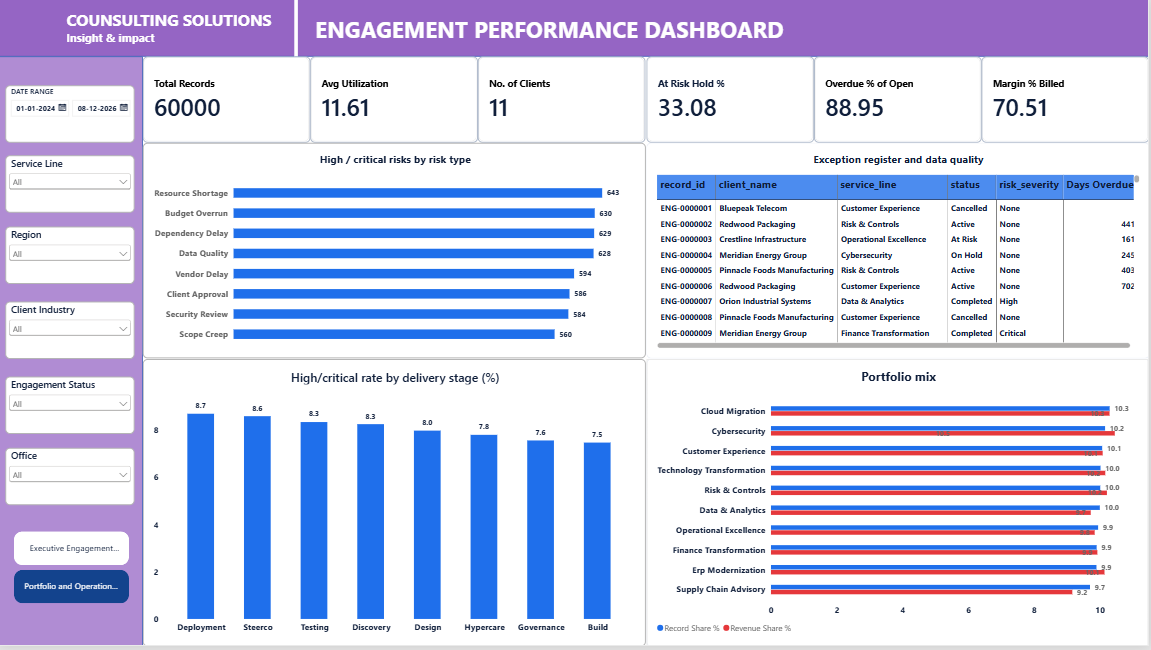

The page's visual inventory and layout, read from the dashboard file:
{"tool":"powerbi","page":{"name":"Portfolio and Operational Analysis","canvas":[1920,1080],"ordinal":1},"visuals":[{"type":"group","id":"g1","title":"Group 1","box":[0,0,1920,1080],"z":0,"group":"g2"},{"type":"shape","box":[0,0,1920,96],"z":0,"group":"g1"},{"type":"group","id":"g2","title":"Group 2","box":[0,0,1920,1080],"z":0,"group":"g3"},{"type":"group","id":"g3","title":"Group 3","box":[0,0,1920,1080],"z":2},{"type":"clusteredBarChart","title":"High / critical risks by risk type","fields":{"Category":["main_dataset.risk_type"],"Y":["Sum(main_dataset.is_high_critical)"]},"box":[240,240,840,360],"z":1000,"group":"g2"},{"type":"clusteredColumnChart","title":"High/critical rate by delivery stage (%)","fields":{"Category":["main_dataset.milestone"],"Y":["Measure.High Critical Rate %"]},"box":[240,600,840,480],"z":1000,"group":"g1"},{"type":"pageNavigator","box":[24,888,192,120],"z":1000,"group":"g3"},{"type":"tableEx","title":"Exception register and data quality","fields":{"Values":["main_dataset.record_id","main_dataset.client_name","main_dataset.service_line","main_dataset.status","main_dataset.risk_severity","main_dataset.Days Overdue"]},"box":[1080,240,840,360],"z":2000,"group":"g2"},{"type":"clusteredBarChart","title":"Portfolio mix","fields":{"Category":["main_dataset.service_line"],"Y":["Measure.Record Share %","Measure.Revenue Share %"]},"box":[1080,600,840,480],"z":2000,"group":"g1"},{"type":"textbox","box":[112,16,368,64],"z":3000,"group":"g1"},{"type":"textbox","box":[528,24,816,72],"z":3000,"group":"g2"},{"type":"shape","box":[480,0,32,96],"z":4000,"group":"g1"},{"type":"slicer","title":"DATE rANGE","fields":{"Values":["main_dataset.recorded_date"]},"box":[10,144,216,96],"z":4000,"group":"g2"},{"type":"cardVisual","fields":{"Data":["Measure.Total Records"]},"box":[240,96,280,144],"z":5000,"group":"g1"},{"type":"slicer","title":"DATE rANGE","fields":{"Values":["main_dataset.service_line"]},"box":[10,260,216,96],"z":5000,"group":"g2"},{"type":"cardVisual","fields":{"Data":["Sum(01_Kpi.clients)"]},"box":[800,96,280,144],"z":6000,"group":"g1"},{"type":"slicer","title":"DATE rANGE","fields":{"Values":["main_dataset.region"]},"box":[10,380,216,96],"z":6000,"group":"g2"},{"type":"cardVisual","fields":{"Data":["Measure.At Risk Hold %"]},"box":[1081,96,280,144],"z":7000,"group":"g1"},{"type":"slicer","title":"DATE rANGE","fields":{"Values":["main_dataset.industry"]},"box":[10,505,216,96],"z":7000,"group":"g2"},{"type":"cardVisual","fields":{"Data":["Measure.Overdue % of Open"]},"box":[1361,96,280,144],"z":8000,"group":"g1"},{"type":"slicer","title":"DATE rANGE","fields":{"Values":["main_dataset.status"]},"box":[10,630,216,96],"z":8000,"group":"g2"},{"type":"cardVisual","fields":{"Data":["Measure.Margin % Billed"]},"box":[1640,96,280,144],"z":9000,"group":"g1"},{"type":"slicer","title":"DATE rANGE","fields":{"Values":["main_dataset.office"]},"box":[10,750,216,96],"z":9000,"group":"g2"},{"type":"shape","box":[0,96,240,984],"z":10000,"group":"g1"},{"type":"cardVisual","fields":{"Data":["Measure.Avg Utilization"]},"box":[520,96,280,144],"z":11000,"group":"g1"}]}

Visuals, with their boxes in screenshot pixels (x1, y1, x2, y2), scaled from the page's 1920x1080 canvas onto the 1151x650 screenshot:
"Group 1" group: l=0, t=0, r=1150, b=649
shape: l=0, t=0, r=1150, b=58
"Group 2" group: l=0, t=0, r=1150, b=649
"Group 3" group: l=0, t=0, r=1150, b=649
"High / critical risks by risk type" clusteredBarChart: l=144, t=144, r=647, b=361
"High/critical rate by delivery stage (%)" clusteredColumnChart: l=144, t=361, r=647, b=649
pageNavigator: l=14, t=534, r=129, b=607
"Exception register and data quality" tableEx: l=647, t=144, r=1150, b=361
"Portfolio mix" clusteredBarChart: l=647, t=361, r=1150, b=649
textbox: l=67, t=10, r=288, b=48
textbox: l=317, t=14, r=806, b=58
shape: l=288, t=0, r=307, b=58
"DATE rANGE" slicer: l=6, t=87, r=135, b=144
cardVisual - Measure.Total Records: l=144, t=58, r=312, b=144
"DATE rANGE" slicer: l=6, t=156, r=135, b=214
cardVisual - Sum(01_Kpi.clients): l=480, t=58, r=647, b=144
"DATE rANGE" slicer: l=6, t=229, r=135, b=286
cardVisual - Measure.At Risk Hold %: l=648, t=58, r=816, b=144
"DATE rANGE" slicer: l=6, t=304, r=135, b=362
cardVisual - Measure.Overdue % of Open: l=816, t=58, r=984, b=144
"DATE rANGE" slicer: l=6, t=379, r=135, b=437
cardVisual - Measure.Margin % Billed: l=983, t=58, r=1150, b=144
"DATE rANGE" slicer: l=6, t=451, r=135, b=509
shape: l=0, t=58, r=144, b=649
cardVisual - Measure.Avg Utilization: l=312, t=58, r=480, b=144
